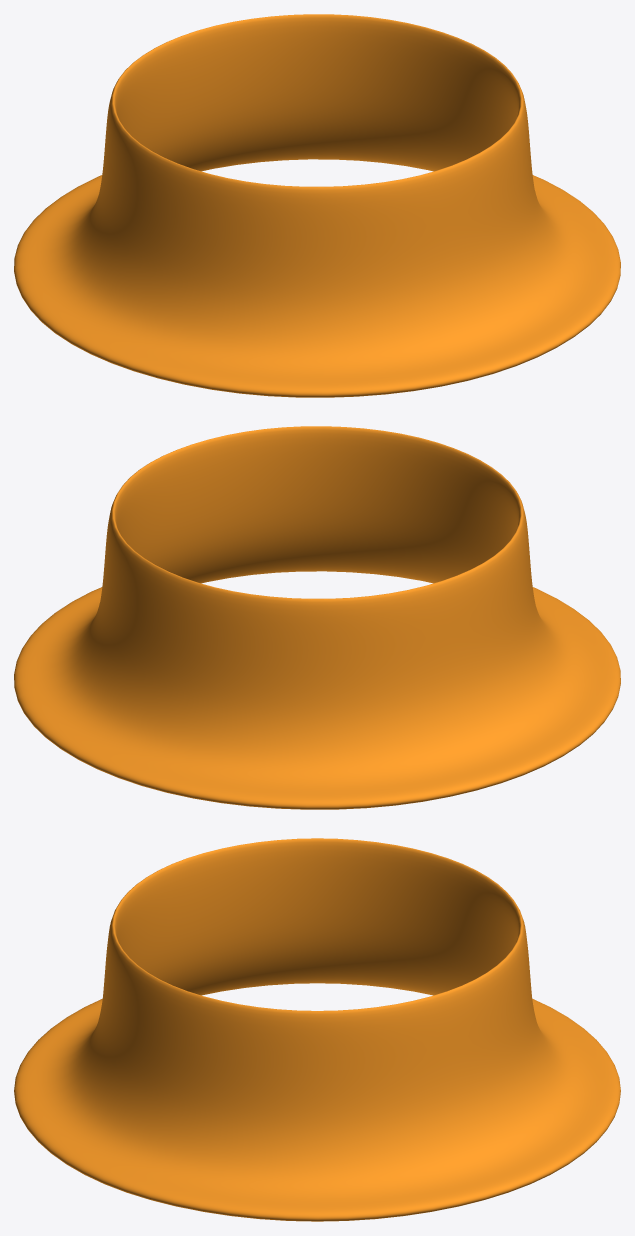
Rendered from crater.fbx.
The picture shows the model from 3 angles, top to bottom: view 1: azimuth 30°, elevation 25°; view 2: azimuth 150°, elevation 25°; view 3: azimuth 270°, elevation 25°; orthographic projection.
Visible parts, largest first — view 1: Roundcube.001; view 2: Roundcube.001; view 3: Roundcube.001.
Part boxes in pixels (<box>): Roundcube.001: <box>14,14,620,397</box>; Roundcube.001: <box>14,426,620,809</box>; Roundcube.001: <box>14,838,620,1221</box>.
Size of the model in its own units: 224 by 224 by 69.96.
